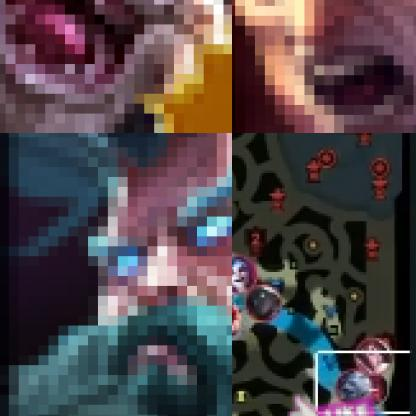Darius: (232, 0, 415, 132)
Fiora: (353, 338, 395, 377)
Jinx: (232, 256, 259, 296)
Kled: (0, 0, 231, 132)
Lee Sin: (232, 302, 246, 340)
Senna: (245, 283, 284, 323)
Volibear: (333, 368, 375, 408)
Zilean: (0, 133, 231, 415)
